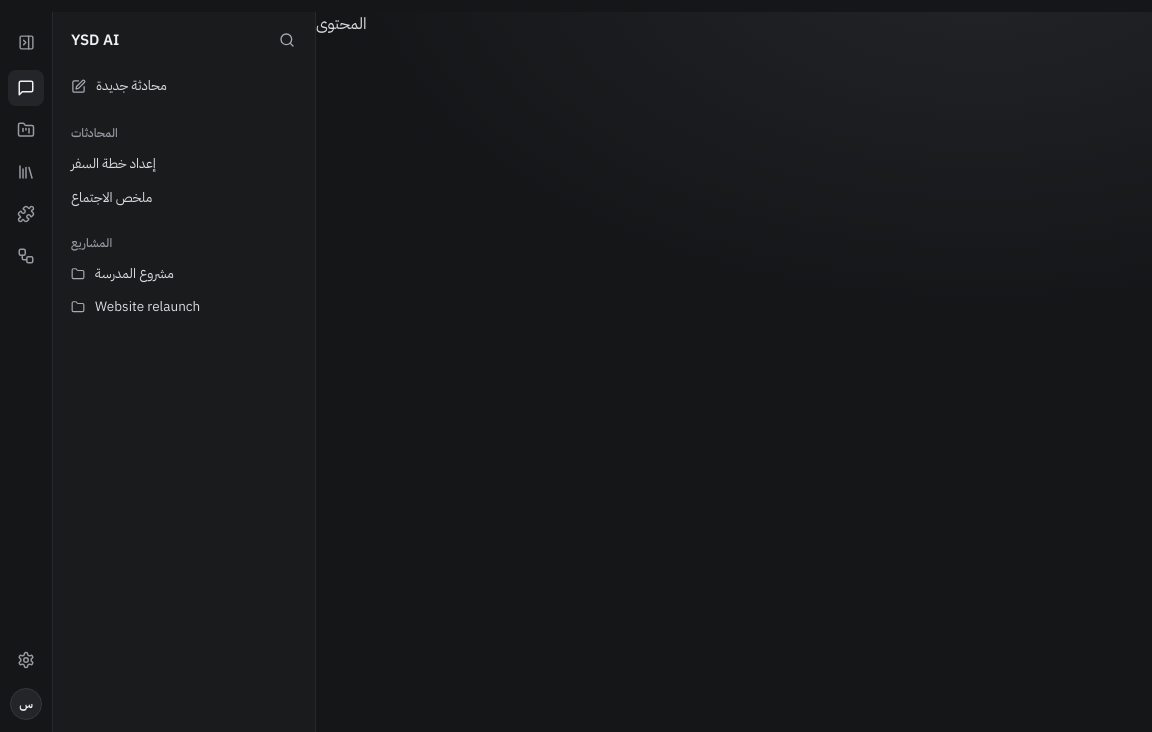
Test case: قائمة الحساب › تُكشف من الصورة الرمزية: الاسم والباقة والحساب والاستهلاك والخروج
The image size is (1152, 732).
Step 1. Click the button named "قائمة الحساب" → click(26, 704), box x1=10 y1=688 x2=42 y2=720
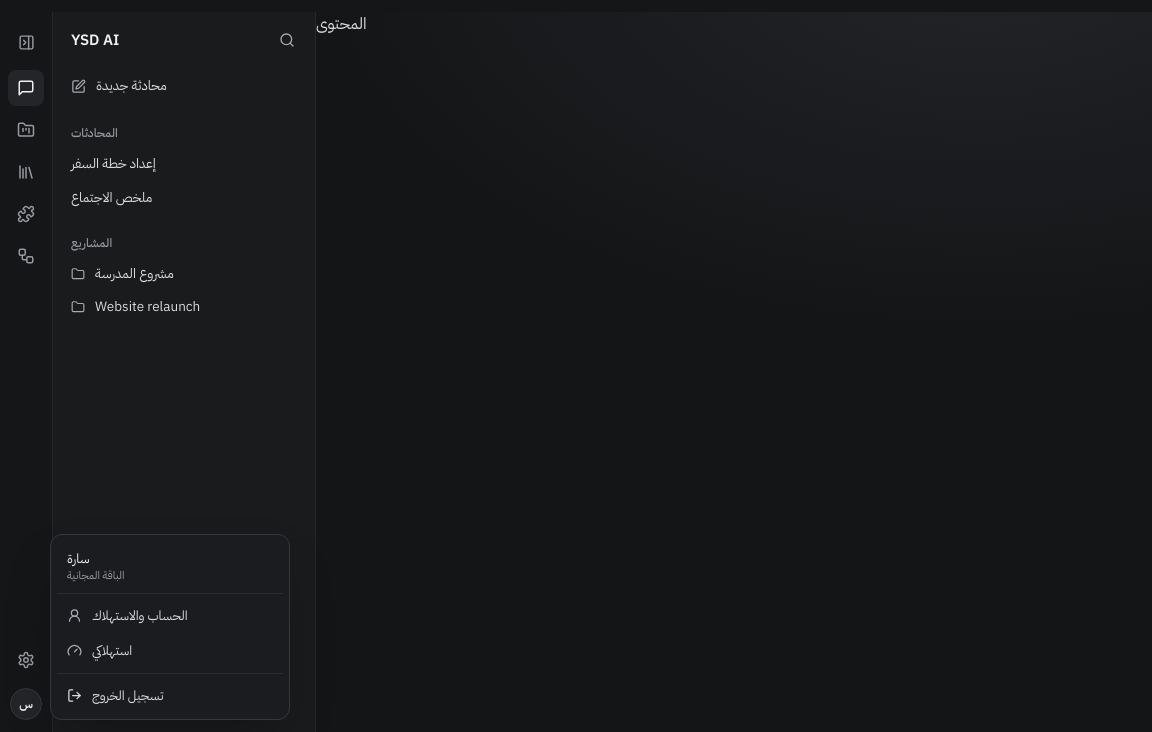
Result: the text "سارة" is shown at x1=67 y1=548 x2=90 y2=568
